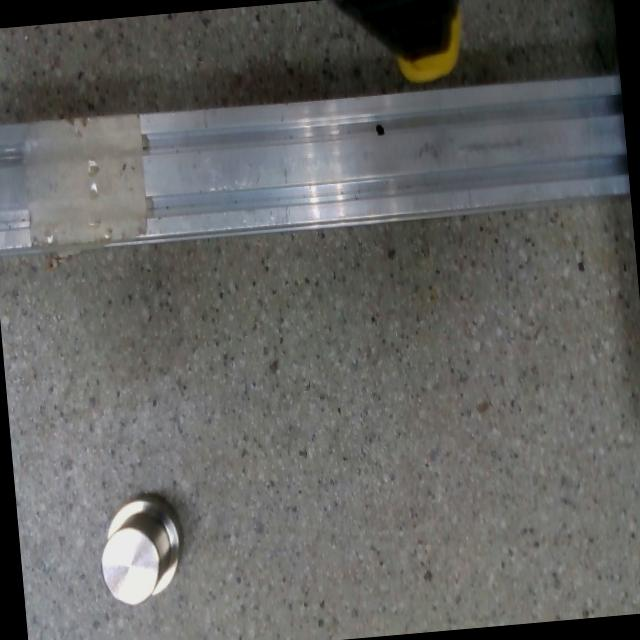sensor: (94, 488, 189, 608)
